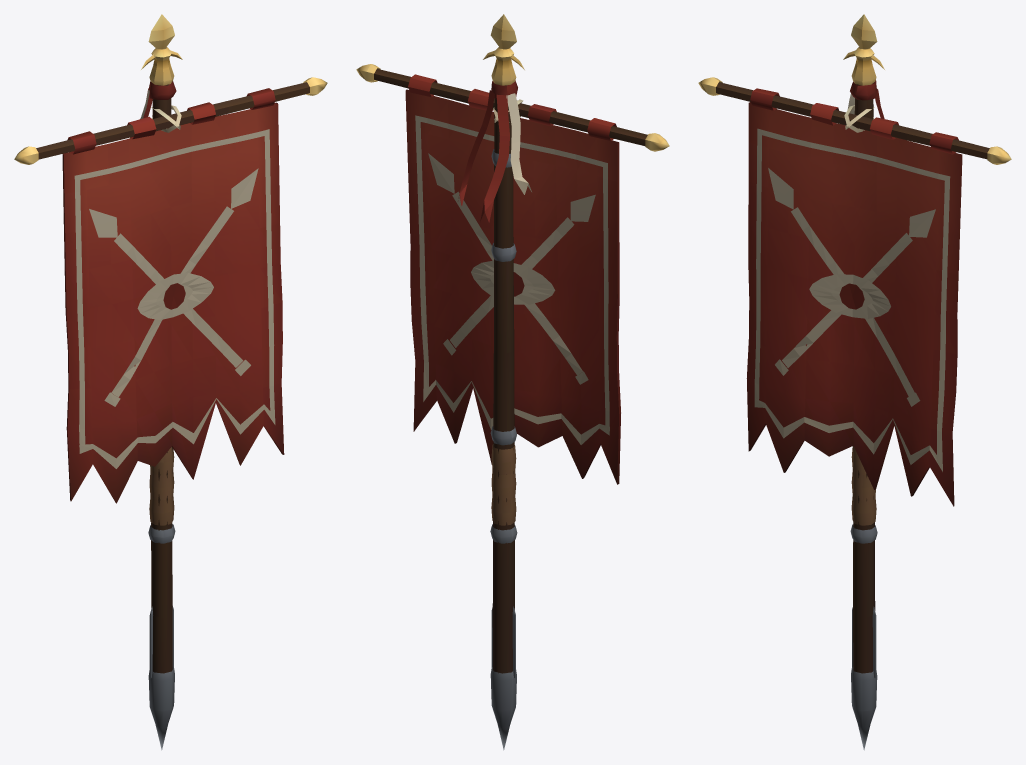
Rendered from muster_standard.glb.
3 renders of one model, left to right at view 1: azimuth 30°, elevation 25°; view 2: azimuth 150°, elevation 25°; view 3: azimuth 330°, elevation 25°, orthographic.
Visible parts, largest first — view 1: Standard_Banner_Cloth, Standard_Pole, Standard_Finial; view 2: Standard_Banner_Cloth, Standard_Pole, Standard_Finial; view 3: Standard_Banner_Cloth, Standard_Pole, Standard_Finial.
Boxes of the visible parts, <box> form: Standard_Banner_Cloth: <box>62,88,284,503</box>; Standard_Pole: <box>14,77,327,750</box>; Standard_Finial: <box>141,14,182,85</box>; Standard_Banner_Cloth: <box>405,74,620,484</box>; Standard_Pole: <box>356,64,669,750</box>; Standard_Finial: <box>483,14,524,85</box>; Standard_Banner_Cloth: <box>746,88,962,506</box>; Standard_Pole: <box>698,77,1011,750</box>; Standard_Finial: <box>843,14,884,85</box>.
Bounding box in the file's own units: 1.47 × 3.3 × 0.3716.
